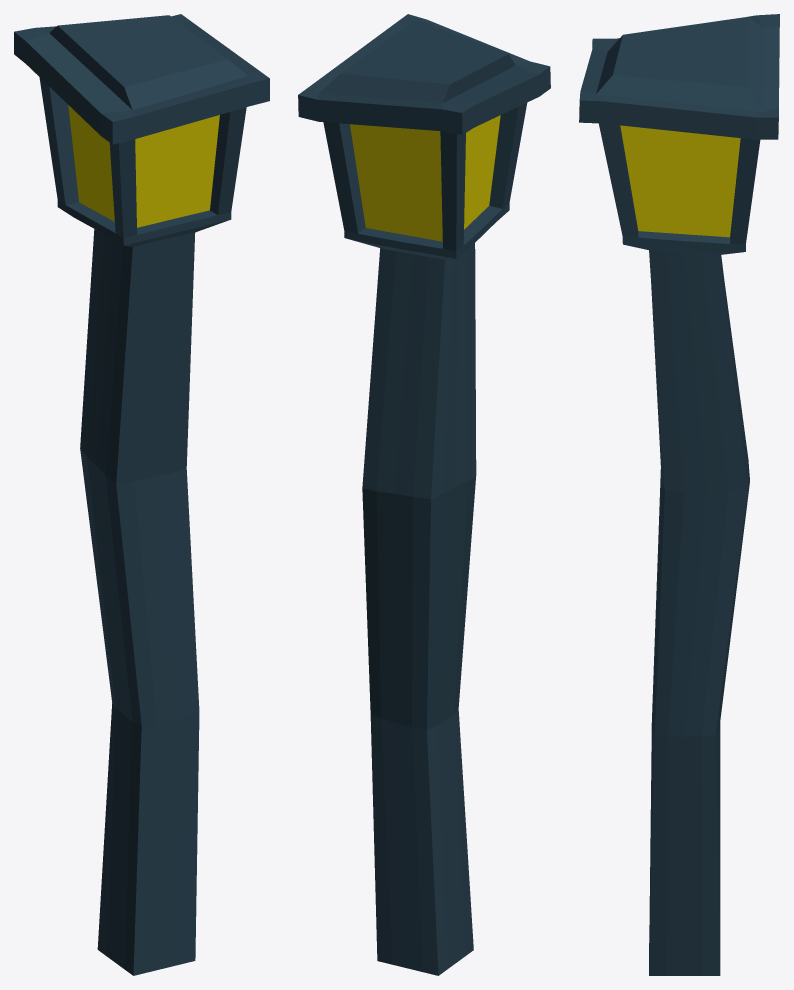
The model's file is Lantern.fbx.
3 views of the same model, side by side, from view 1: azimuth 30°, elevation 25°; view 2: azimuth 150°, elevation 25°; view 3: azimuth 270°, elevation 25° (orthographic).
Visible parts, largest first — view 1: Cube; view 2: Cube; view 3: Cube.
Part boxes in pixels (box(x1,y1,x2,y2)): Cube: box(14, 14, 269, 975); Cube: box(298, 14, 550, 975); Cube: box(579, 14, 779, 975).
Size of the model in its own units: 204 by 1076 by 214.
